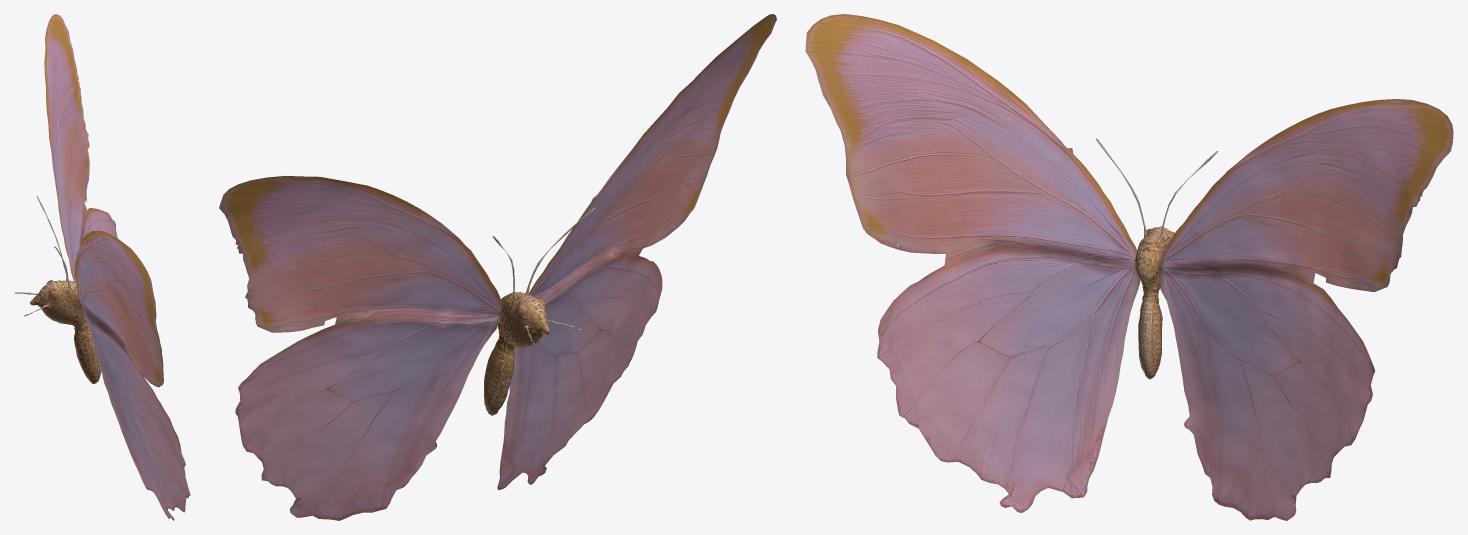
The model's file is borboleta.glb.
3 renders of one model, left to right at view 1: azimuth 30°, elevation 25°; view 2: azimuth 150°, elevation 25°; view 3: azimuth 270°, elevation 25°, orthographic. The views are drawn at different scales.
Visible parts, largest first — view 1: left_wing, right_wing, body; view 2: right_wing, left_wing, body; view 3: left_wing, right_wing, body.
Part boxes in pixels (x1,y1,x2,y2): left_wing: (74,231,190,520); right_wing: (44,14,117,281); body: (15,81,101,383); right_wing: (219,176,502,520); left_wing: (497,14,776,489); body: (237,208,594,415); left_wing: (805,14,1140,512); right_wing: (1159,99,1453,520); body: (1096,138,1420,379).
Size of the model in its own units: 5.52 by 8.92 by 11.96.
1 material, 1 textured.
